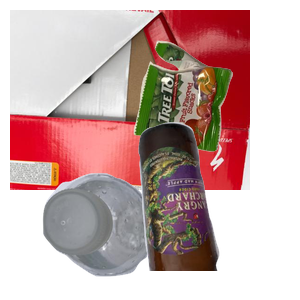cardboard: (10, 10, 250, 190)
glass: (136, 120, 300, 300)
plastic: (40, 170, 187, 300)
trash: (131, 38, 300, 182)
